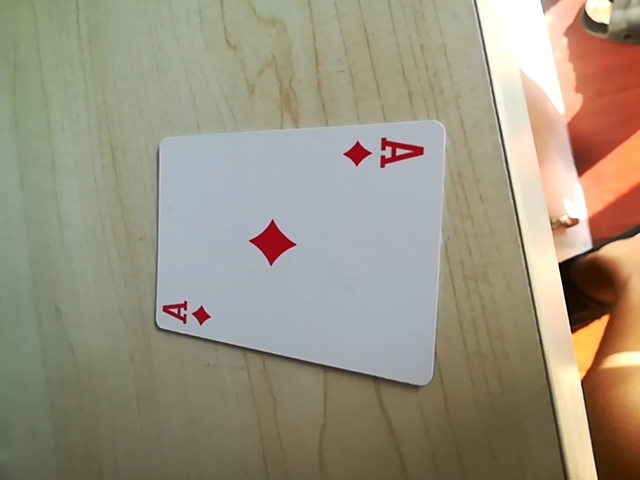fk a: (342, 131, 426, 174), (154, 294, 218, 330)
